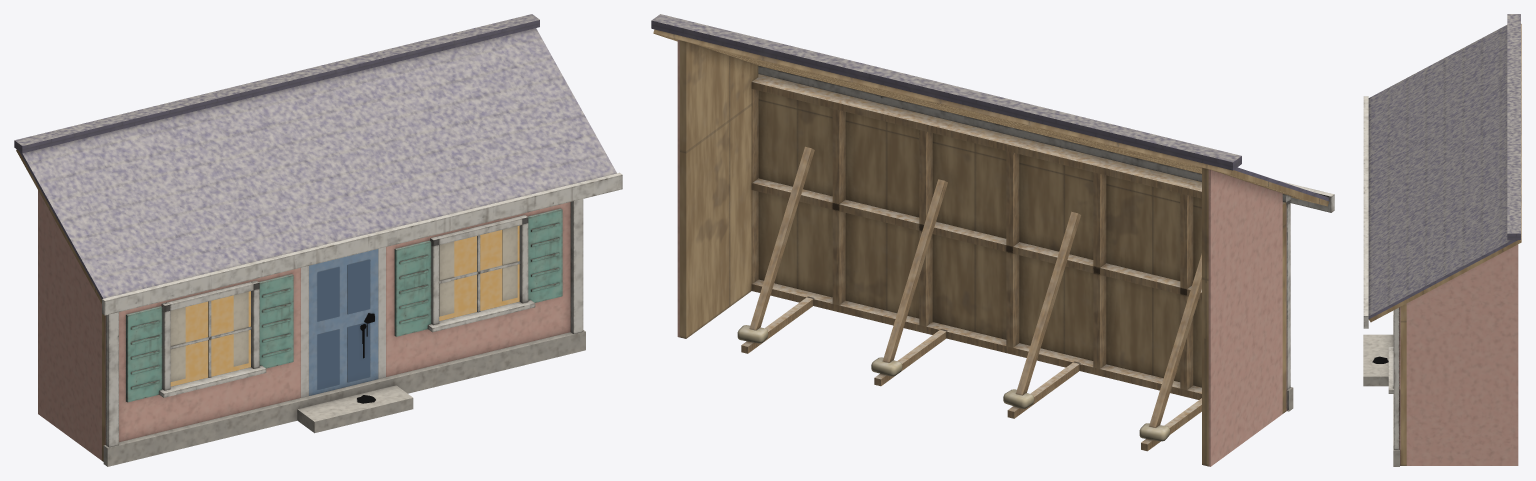
The model's file is house_ranch.fbx.
The picture shows the model from 3 angles, left to right: view 1: azimuth 30°, elevation 25°; view 2: azimuth 150°, elevation 25°; view 3: azimuth 270°, elevation 25°; orthographic projection. The views are drawn at different scales.
Visible parts, largest first — view 1: Body, Glow; view 2: Body; view 3: Body.
Boxes of the visible parts, left/top/right/bottom form: Body: left=14, top=14, right=622, bottom=466; Glow: left=170, top=225, right=519, bottom=386; Body: left=651, top=14, right=1334, bottom=466; Body: left=1363, top=14, right=1521, bottom=466.
Size of the model in its own units: 26.2 by 13.43 by 7.98.
1 material, 1 textured.
